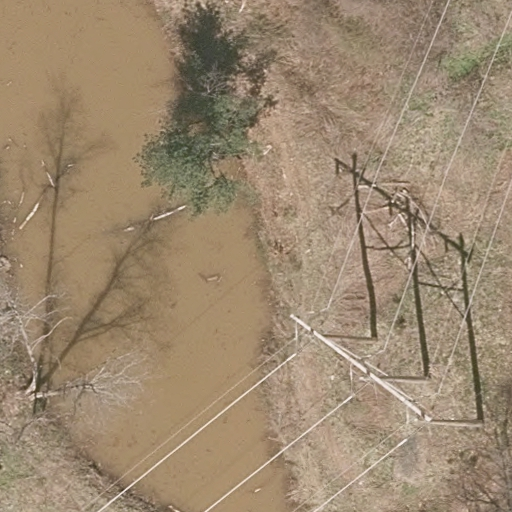TT: (287, 311, 434, 423)
